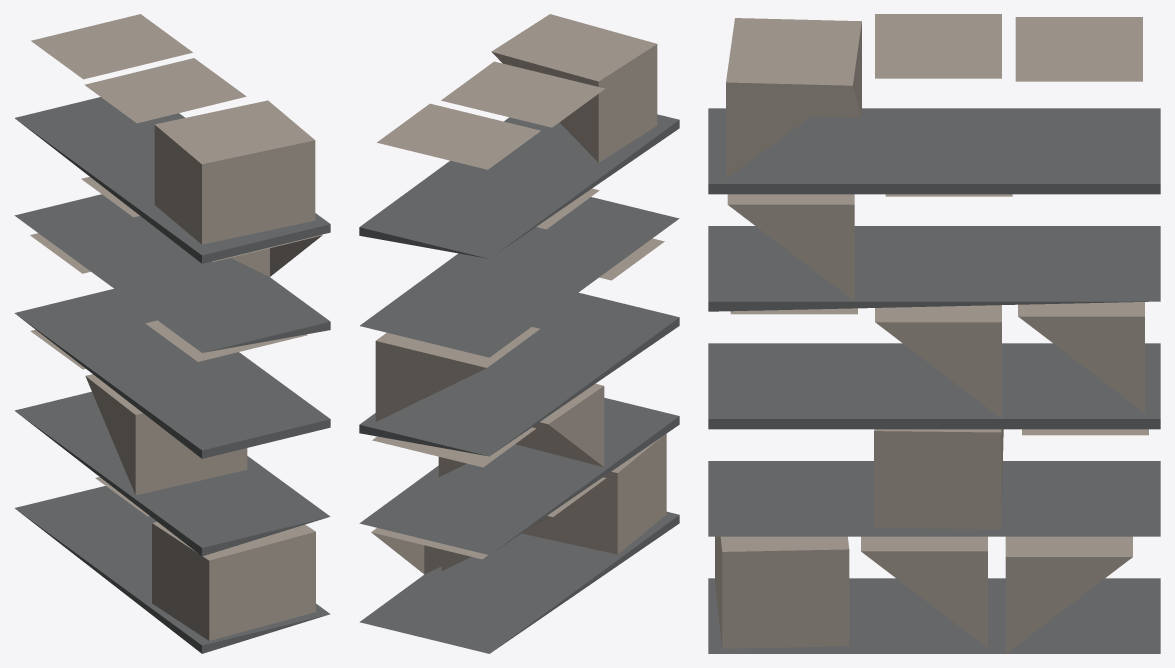
File: warehouse-rack.lod1.glb
3 views of the same model, side by side, from view 1: azimuth 30°, elevation 25°; view 2: azimuth 150°, elevation 25°; view 3: azimuth 270°, elevation 25° (orthographic). The views are drawn at different scales.
Parts seen in each view (by area): view 1: Material2; view 2: Material2; view 3: Material2.
Part boxes in pixels (x1,y1,x2,y2): Material2: [14, 14, 330, 653]; Material2: [359, 14, 679, 653]; Material2: [708, 14, 1160, 653].
Size of the model in its own units: 0.6461 by 2.3 by 1.63.
